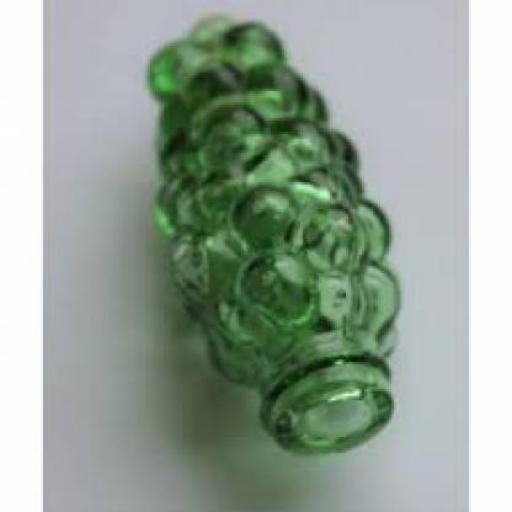glass: (146, 14, 396, 456)
